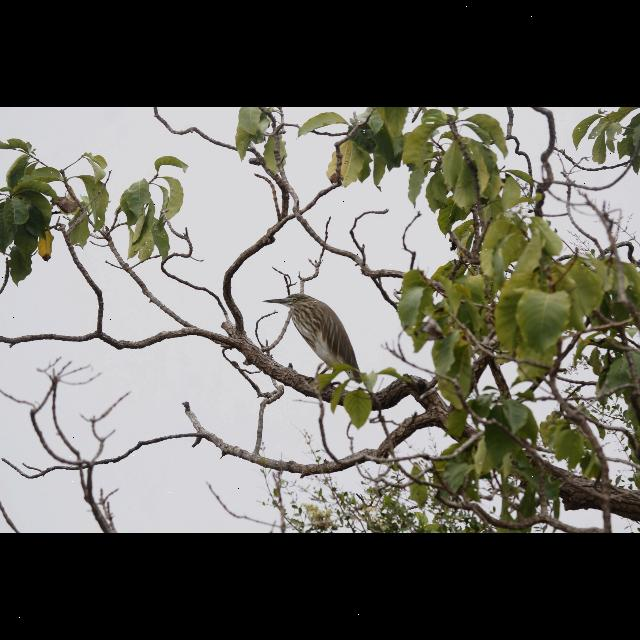heron: (257, 287, 367, 399)
